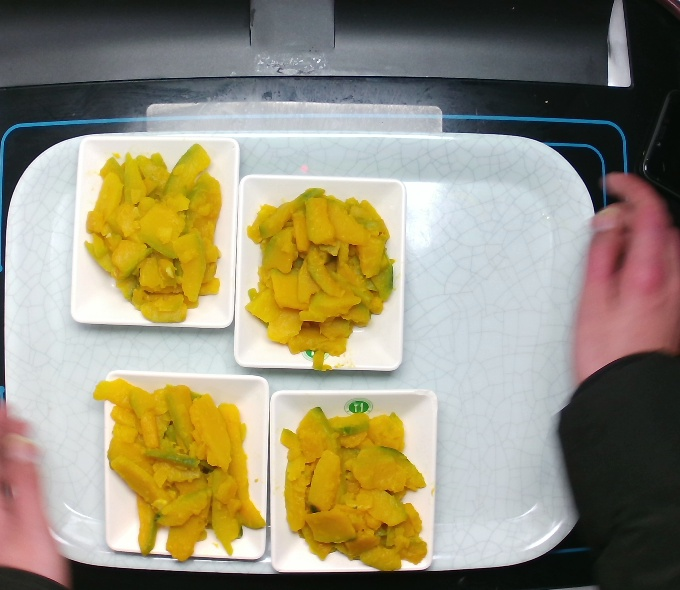wcq-NanGuaPian: (244, 183, 418, 374), (88, 372, 262, 563), (76, 137, 250, 328), (272, 403, 443, 582)
